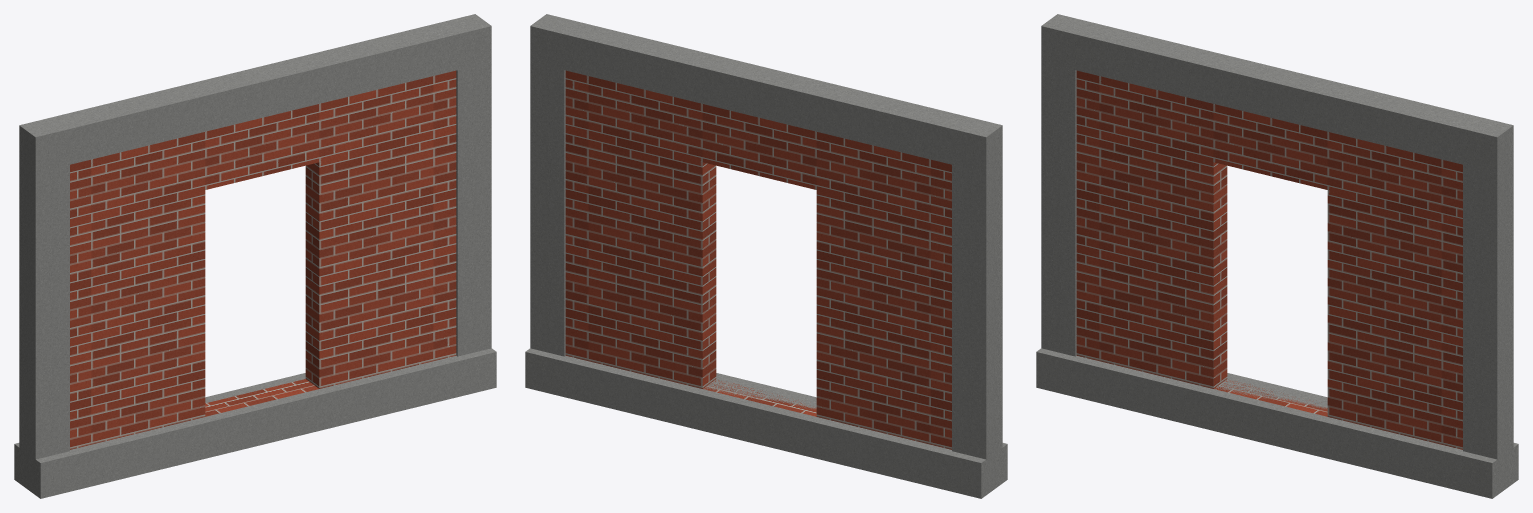
The model's file is estate_wall_door_3b.glb.
3 views of the same model, side by side, from view 1: azimuth 30°, elevation 25°; view 2: azimuth 150°, elevation 25°; view 3: azimuth 330°, elevation 25° (orthographic).
Visible parts, largest first — view 1: Cube.004, Cube.003, Cube, Cube.001, Cube.002; view 2: Cube.004, Cube.003, Cube, Cube.001, Cube.002; view 3: Cube.004, Cube.003, Cube, Cube.002, Cube.001.
Boxes of the visible parts, x1,y1,x2,y2 form: Cube.004: [70, 70, 456, 449]; Cube.003: [19, 14, 491, 172]; Cube: [14, 348, 496, 498]; Cube.001: [19, 161, 69, 459]; Cube.002: [456, 62, 491, 356]; Cube.004: [565, 70, 951, 449]; Cube.003: [530, 14, 1002, 172]; Cube: [525, 348, 1007, 498]; Cube.001: [952, 161, 1002, 459]; Cube.002: [530, 62, 565, 356]; Cube.004: [1076, 70, 1462, 449]; Cube.003: [1041, 14, 1513, 172]; Cube: [1036, 348, 1518, 498]; Cube.002: [1463, 161, 1513, 459]; Cube.001: [1041, 62, 1076, 356].
Bounding box in the file's own units: 4 × 3 × 0.4.
Materials: 2 (2 with a texture image).
